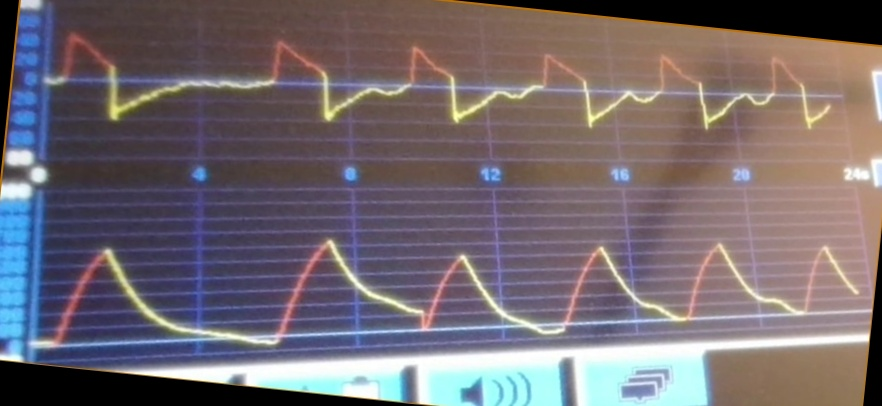Ineffective_effort Flow: (50, 30, 834, 137)
Ineffective_effort Volume: (38, 225, 857, 349)
